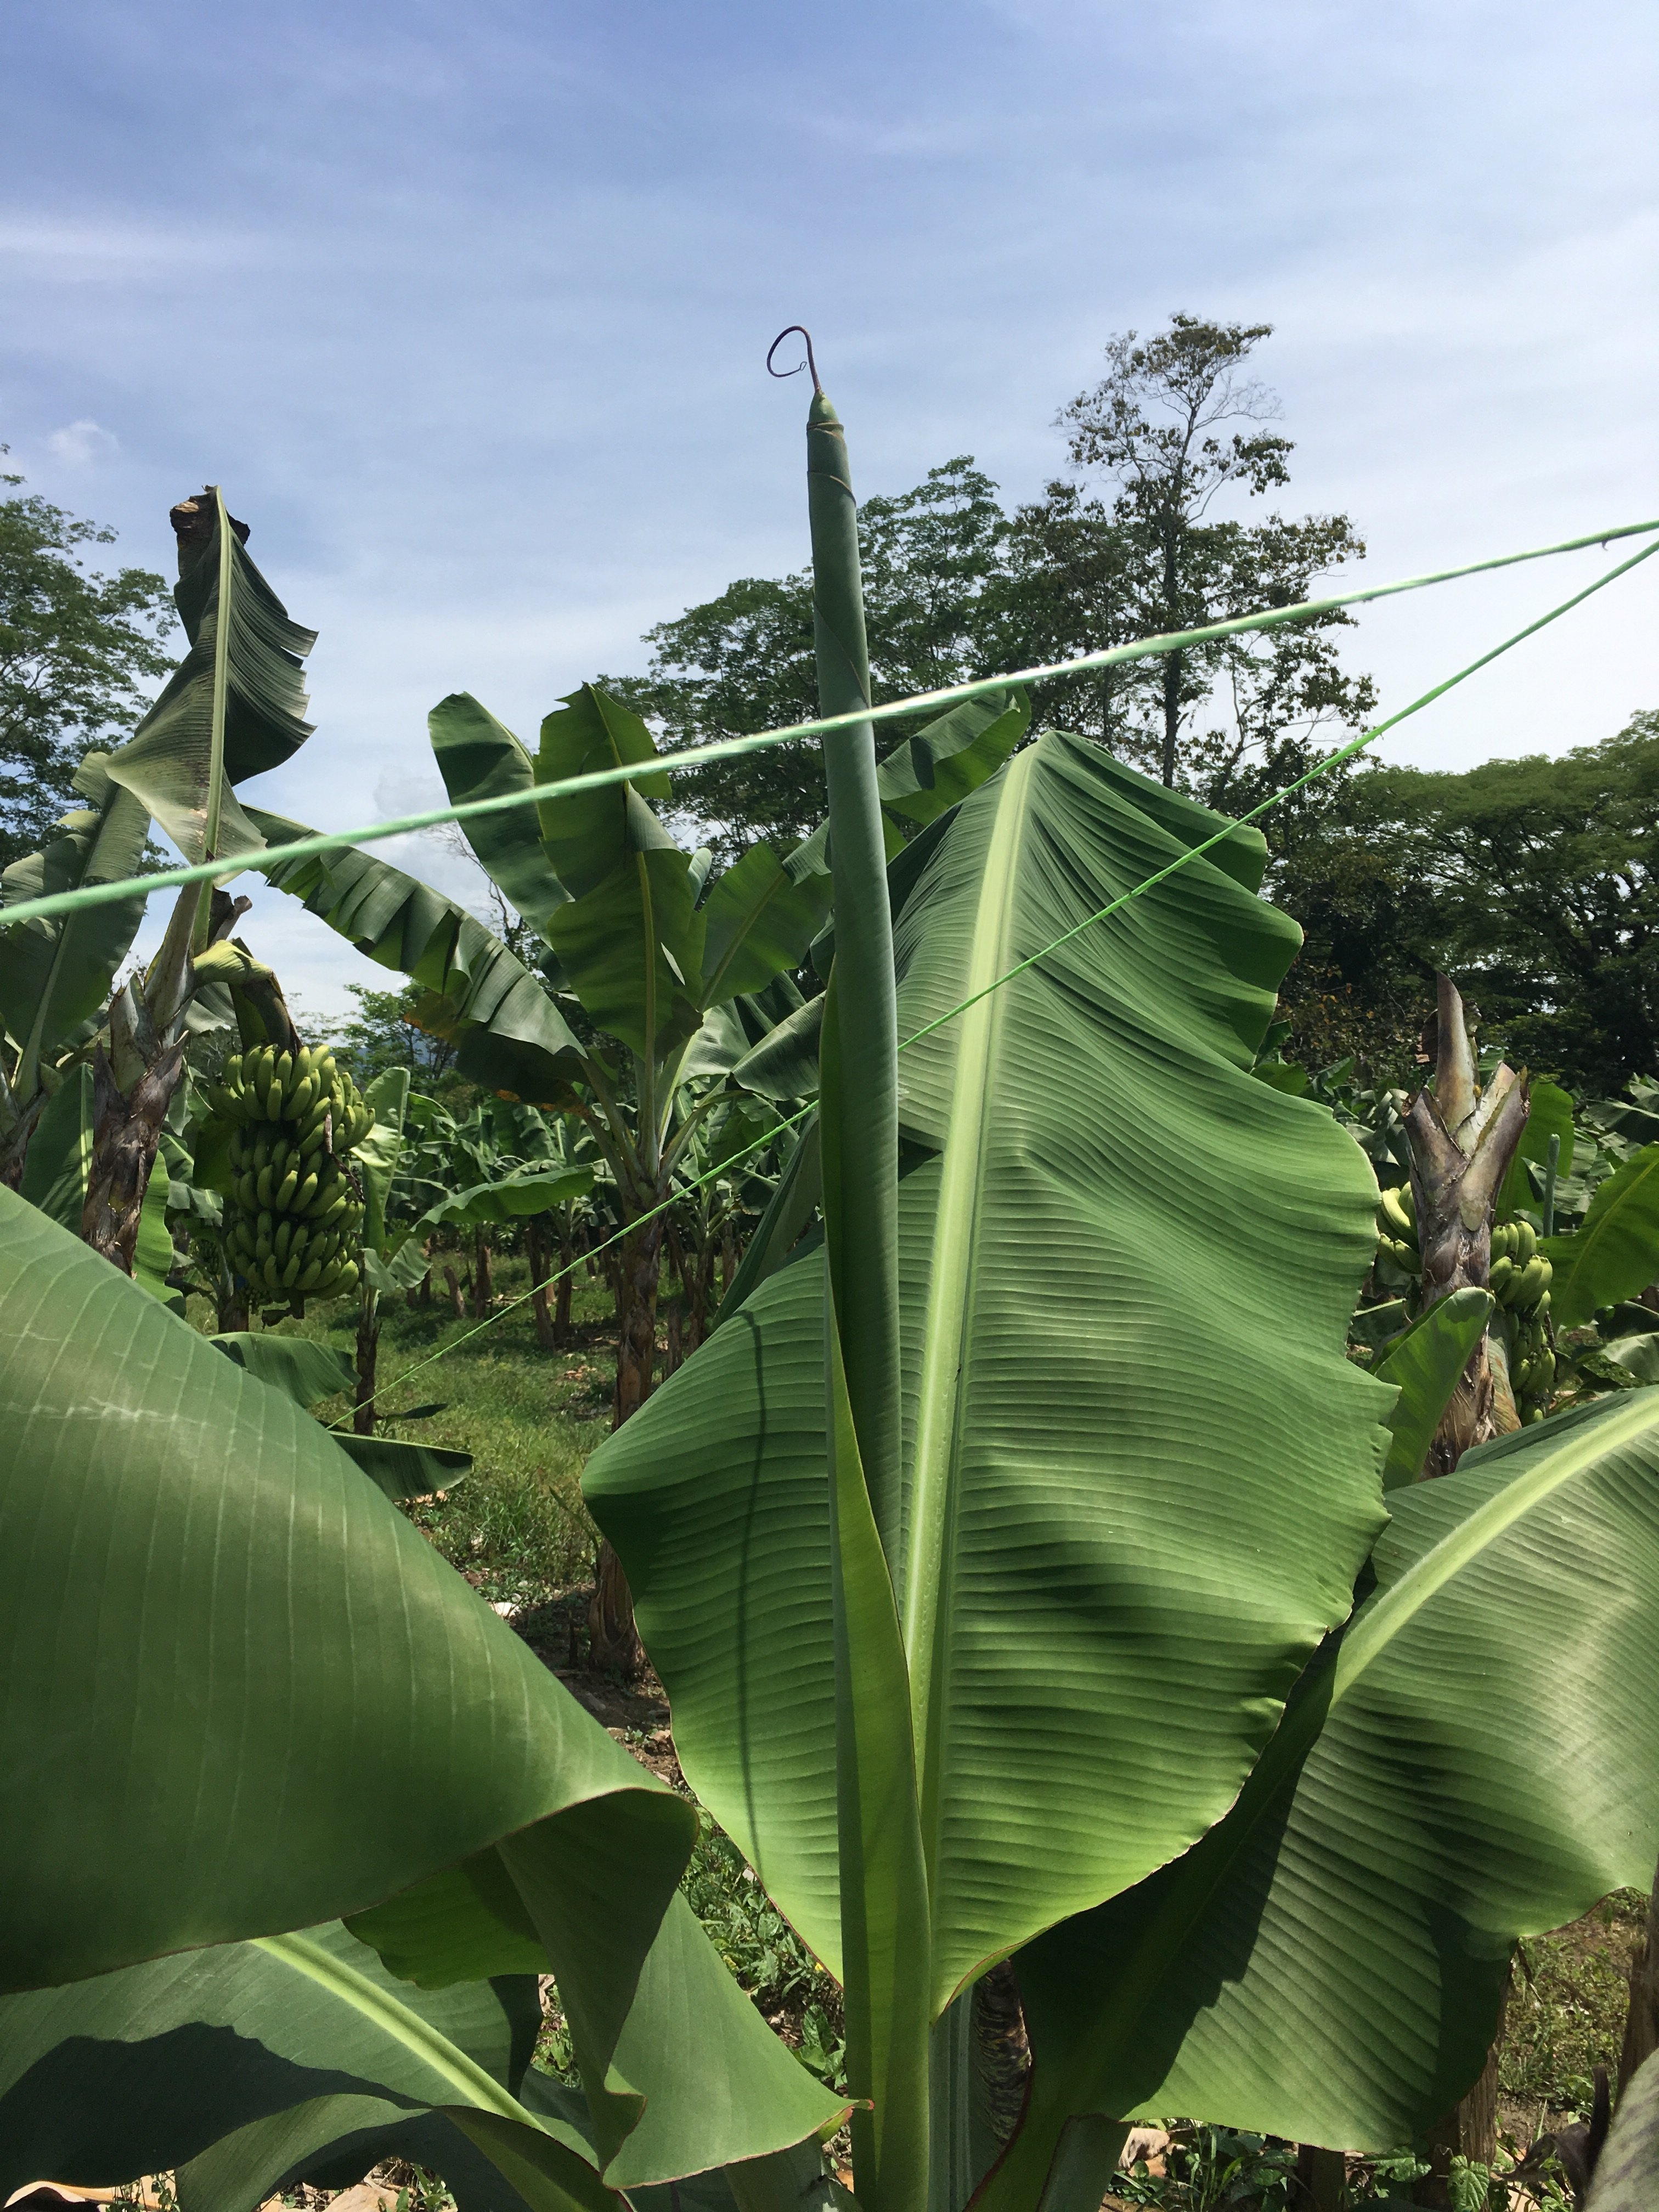candleleafs: (769, 326, 936, 2212)
